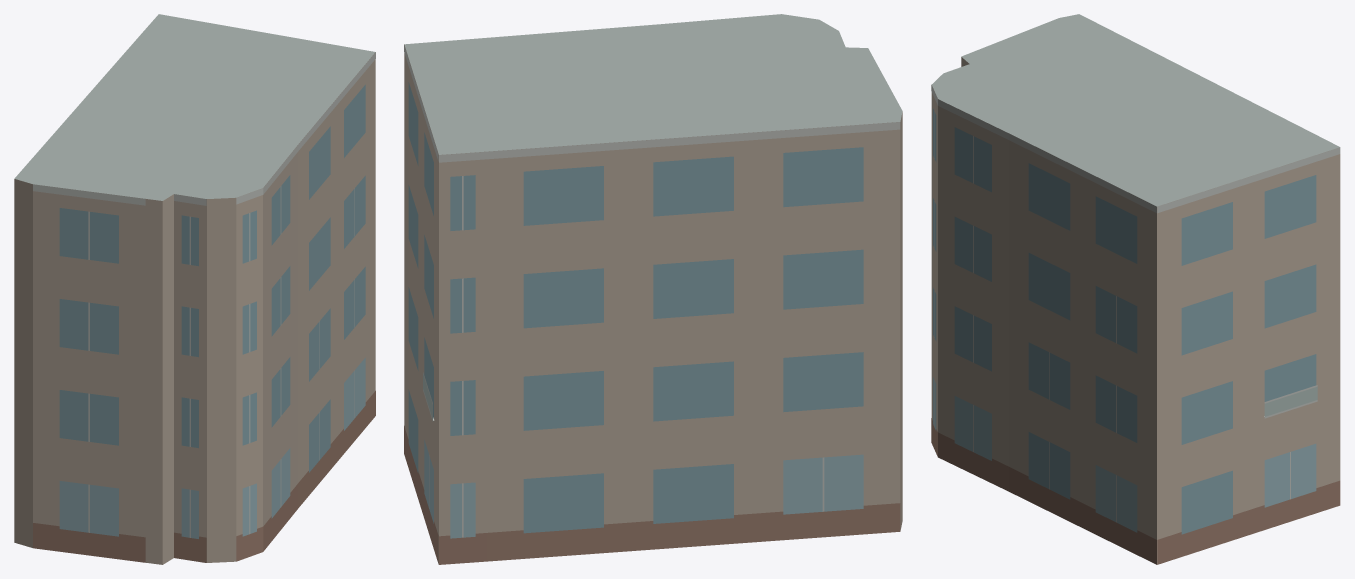
Rendered from survey-upis-32631958.glb.
The picture shows the model from 3 angles, left to right: view 1: azimuth 30°, elevation 25°; view 2: azimuth 150°, elevation 25°; view 3: azimuth 270°, elevation 25°; orthographic projection. The views are drawn at different scales.
Visible parts, largest first — view 1: survey-upis-32631958.tmp; view 2: survey-upis-32631958.tmp; view 3: survey-upis-32631958.tmp.
Boxes of the visible parts, x1=… form: survey-upis-32631958.tmp: x1=14, y1=14, x2=375, y2=564; survey-upis-32631958.tmp: x1=404, y1=14, x2=902, y2=564; survey-upis-32631958.tmp: x1=931, y1=14, x2=1340, y2=564.
Bounding box in the file's own units: 14.88 × 12.9 × 13.35.
